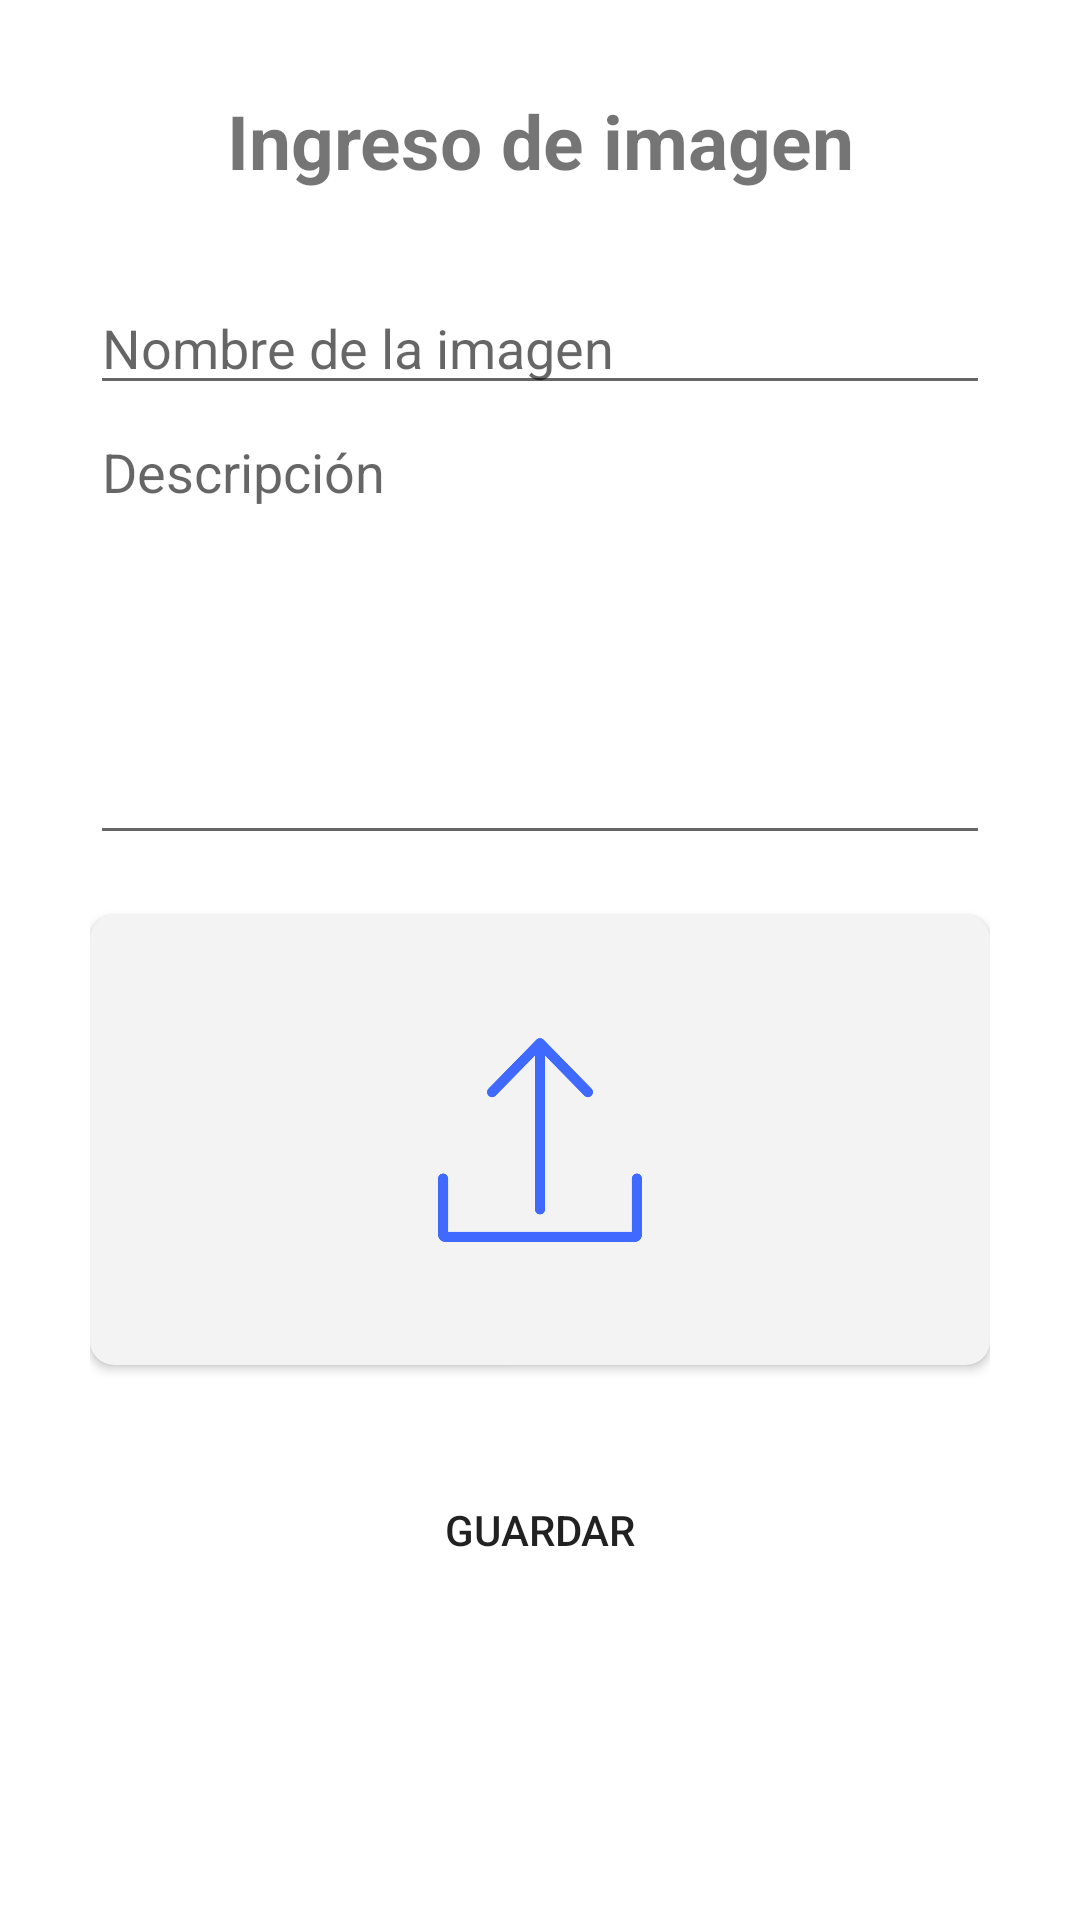

Where icons sit on this 1080w x 1920h app screen, as [x1, y1, x2, y2]:
upload: [438, 1038, 642, 1242]
